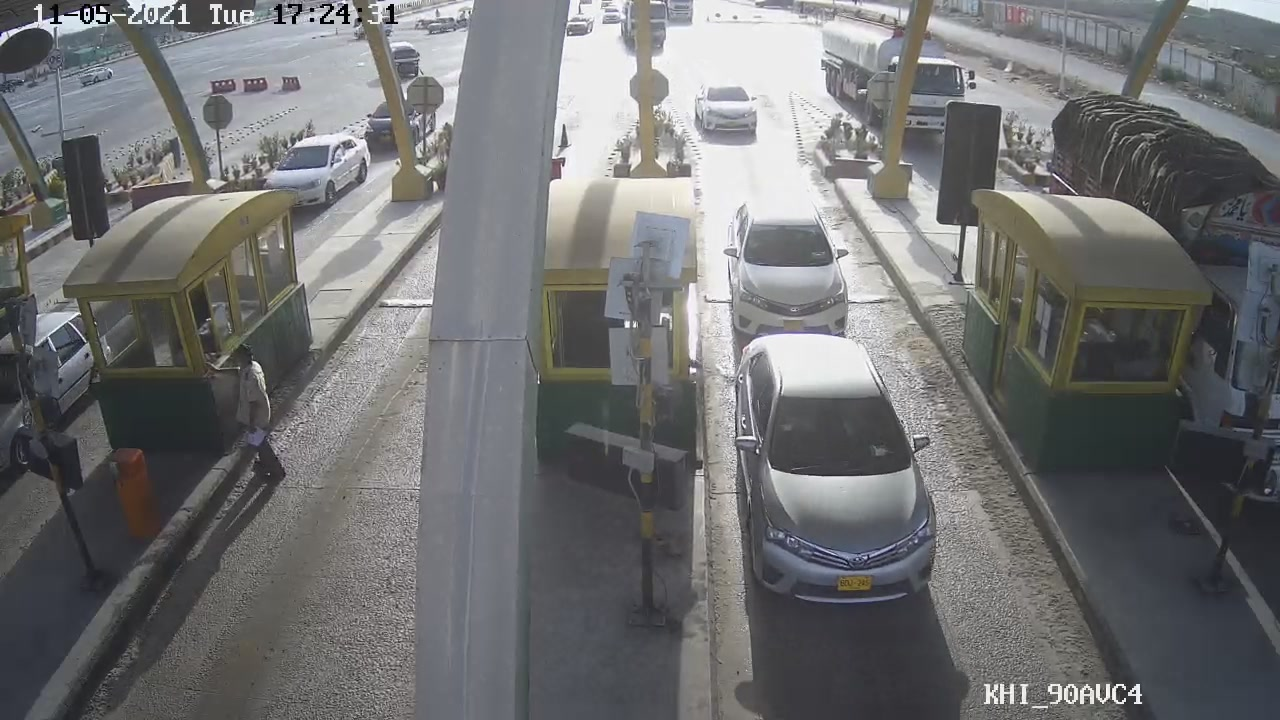F1: (723, 330, 962, 599)
